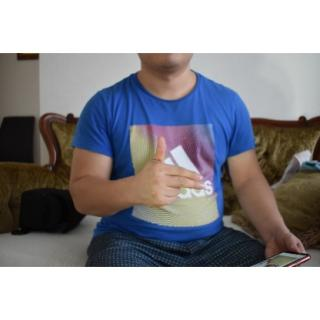GHAYN: (135, 133, 206, 209)
